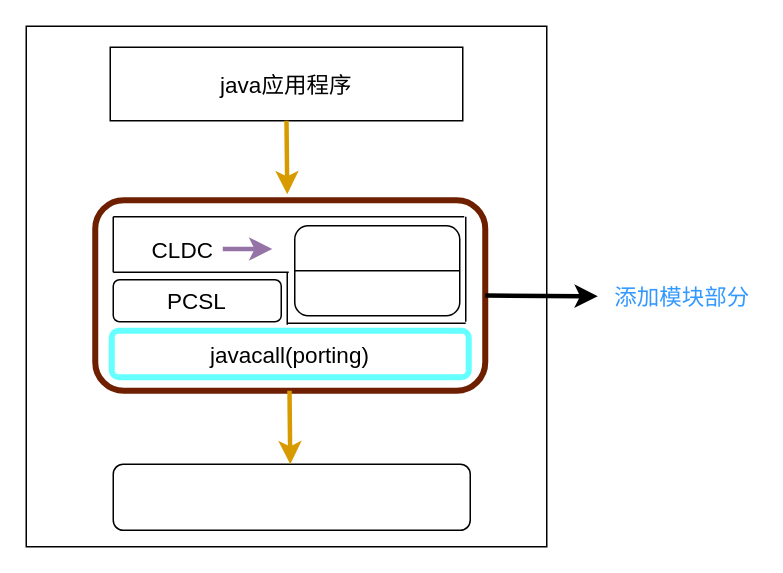
This 783x573 diagram has some shape labels left out. The shapes that lost their labels are listed below. From the top down, each one's centre as x and y in pixels, then its label:
At (376,270): "API KNI".
At (291,496): "OS".
